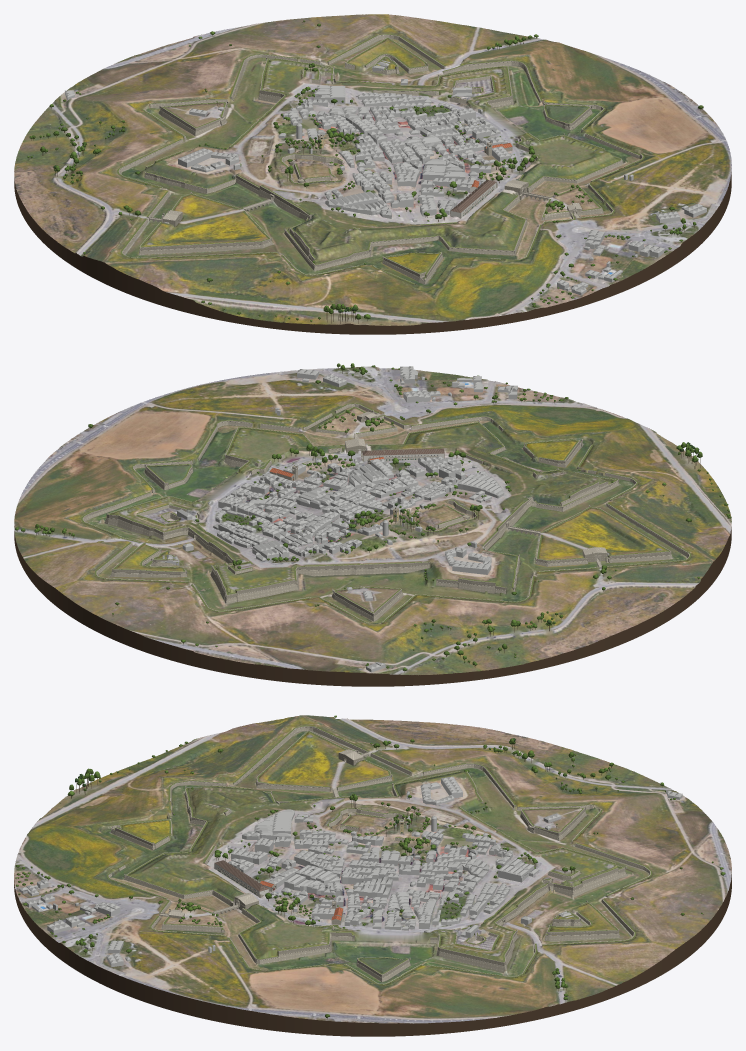
Rendered from almeida.glb.
3 views of the same model, one above another, from view 1: azimuth 30°, elevation 25°; view 2: azimuth 150°, elevation 25°; view 3: azimuth 270°, elevation 25° (orthographic).
Parts seen in each view (by area): view 1: Terreno, Casario, Escarpas, Base, Vegetacao, Quartel_das_Esquadras; view 2: Terreno, Escarpas, Casario, Base, Vegetacao, Quartel_das_Esquadras; view 3: Terreno, Casario, Escarpas, Base, Vegetacao, Quartel_das_Esquadras.
Boxes of the visible parts, left/top/right/bottom form: Terreno: left=14, top=14, right=731, bottom=325; Casario: left=65, top=60, right=706, bottom=295; Escarpas: left=117, top=34, right=644, bottom=284; Base: left=14, top=88, right=731, bottom=334; Vegetacao: left=27, top=20, right=703, bottom=323; Quartel_das_Esquadras: left=450, top=178, right=497, bottom=218; Terreno: left=14, top=366, right=731, bottom=675; Escarpas: left=81, top=403, right=691, bottom=623; Casario: left=160, top=366, right=517, bottom=672; Base: left=14, top=381, right=731, bottom=686; Vegetacao: left=15, top=363, right=731, bottom=672; Quartel_das_Esquadras: left=361, top=448, right=444, bottom=461; Terreno: left=14, top=715, right=731, bottom=1023; Casario: left=19, top=776, right=682, bottom=966; Escarpas: left=106, top=725, right=652, bottom=984; Base: left=14, top=720, right=731, bottom=1036; Vegetacao: left=15, top=715, right=725, bottom=1018; Quartel_das_Esquadras: left=214, top=860, right=269, bottom=898.
Size of the model in its own units: 933 by 69.36 by 933.
19 materials, 6 textured.
